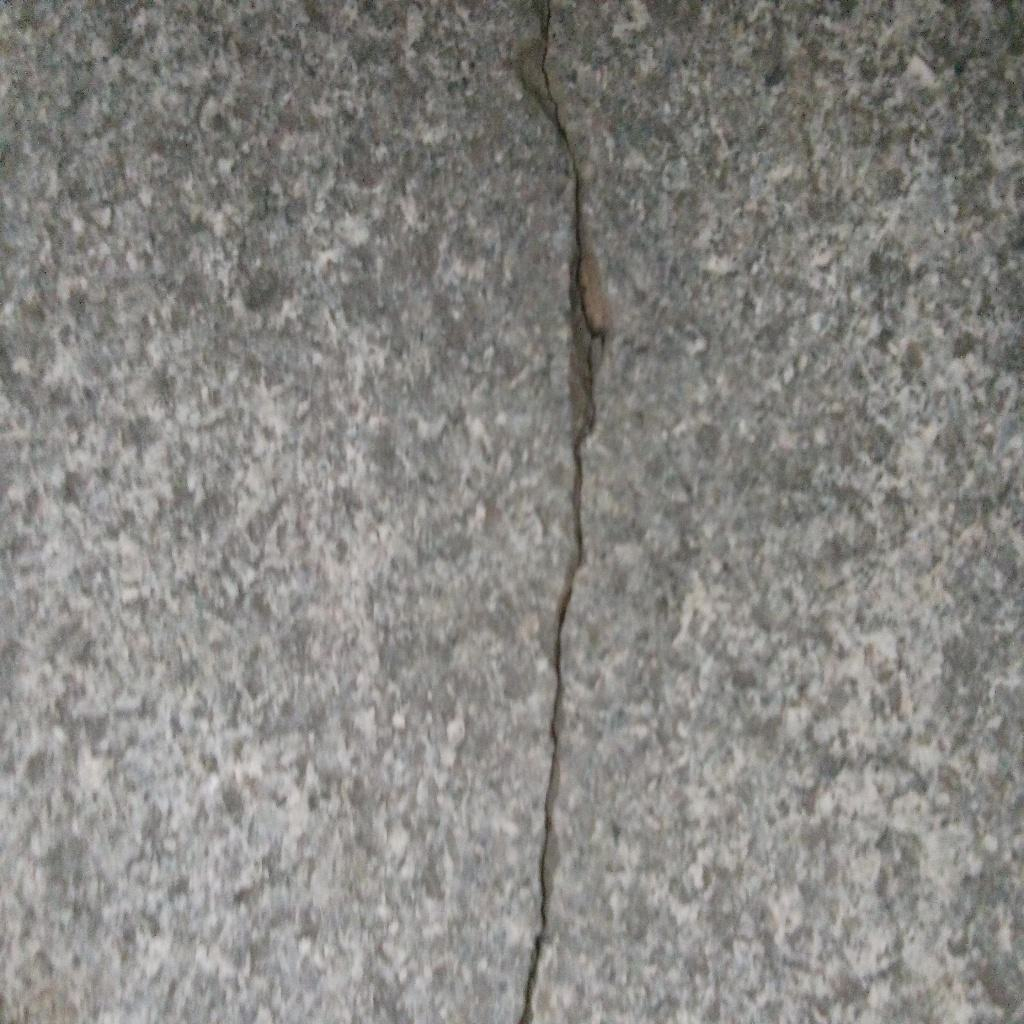Crack: (521, 1, 615, 1024)
